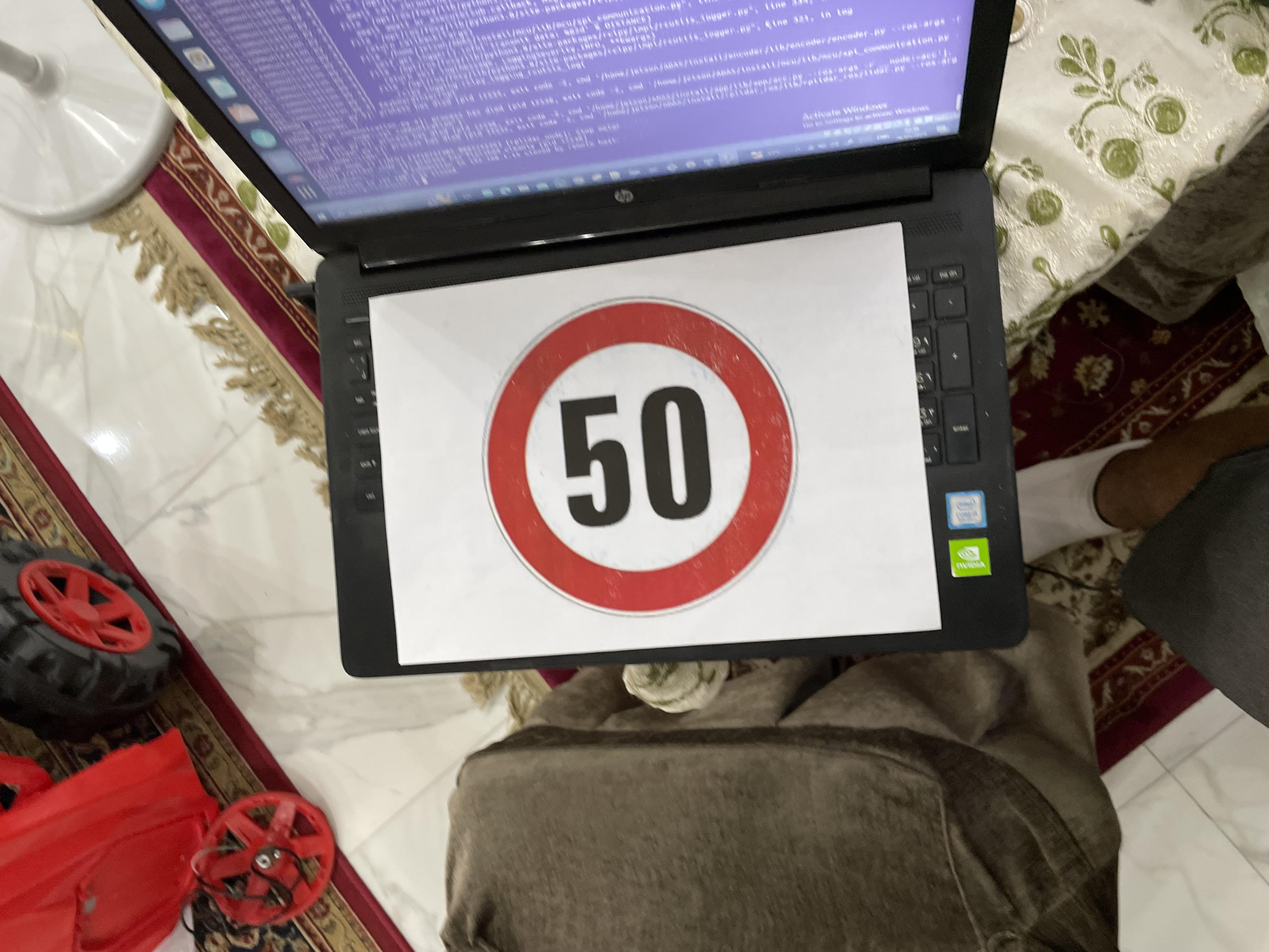50-Speed: (429, 352, 878, 600)
